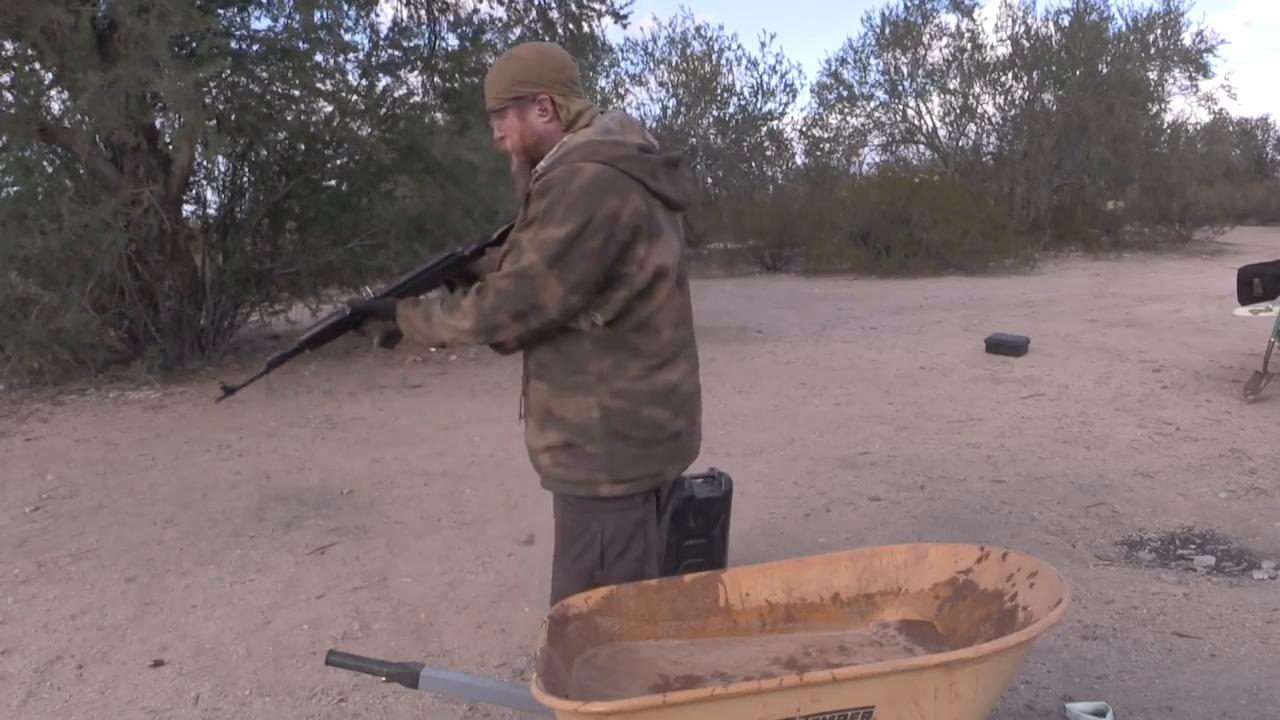AK47 Rifle: (208, 218, 515, 403)
